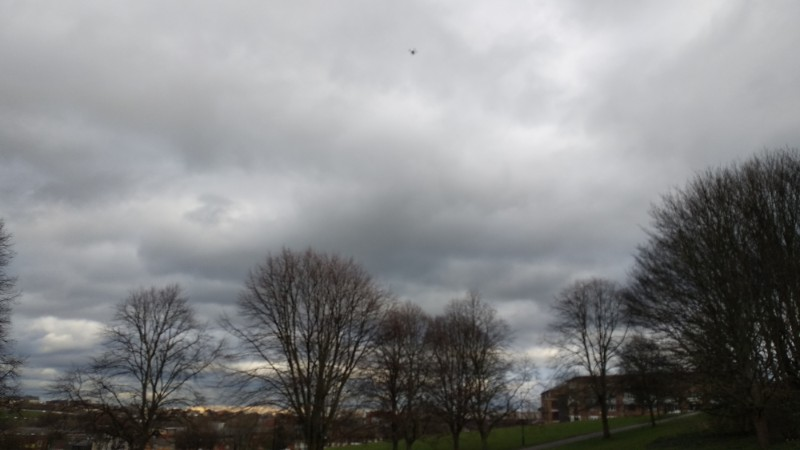drone: (407, 48, 418, 56)
